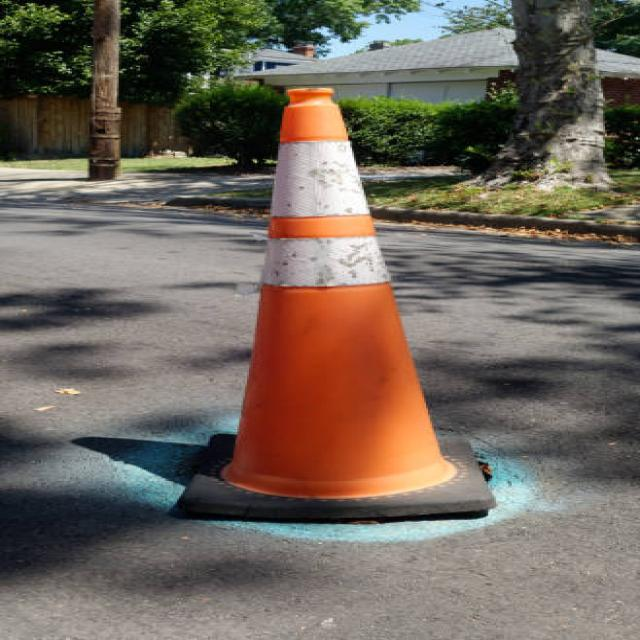Traffic Cone: (91, 44, 567, 544)
